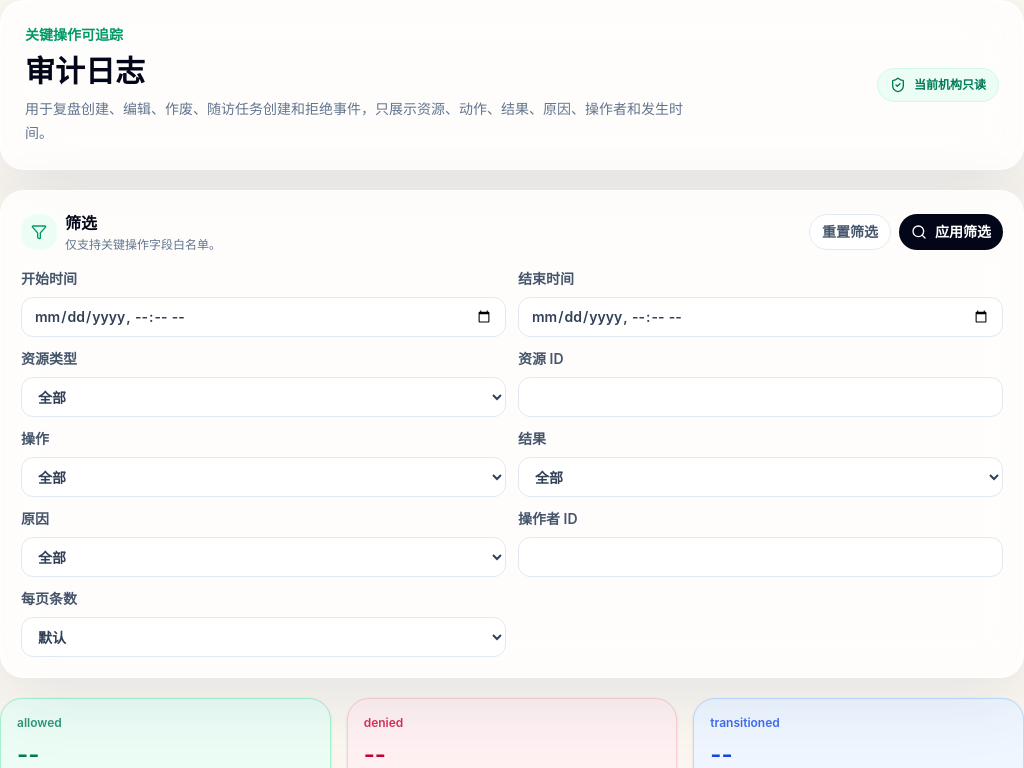
Test case: 机构业务页面壳 › 审计日志忽略晚到的旧失败结果，不覆盖新 replace 的权威成功结果
This screenshot has width=1024, height=768.
Click the button "应用筛选" at (951, 232), box [899,214,1003,250]
(page scrolled)
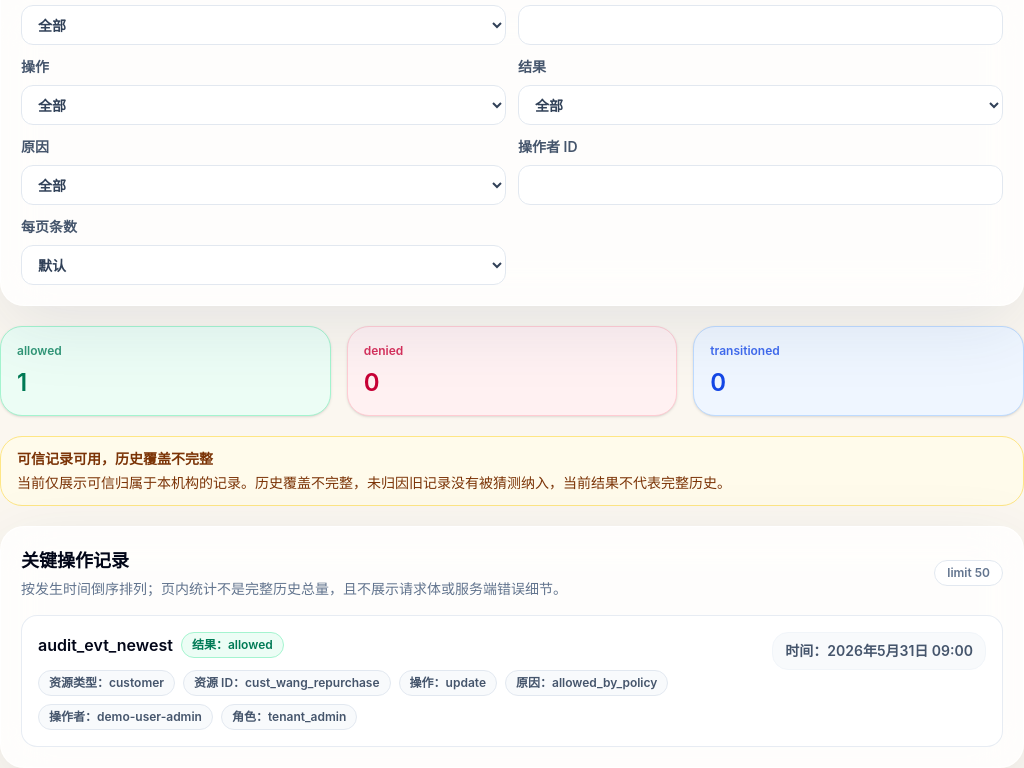
Expected: the text "audit_evt_newest" is shown, [38,633,173,657]
